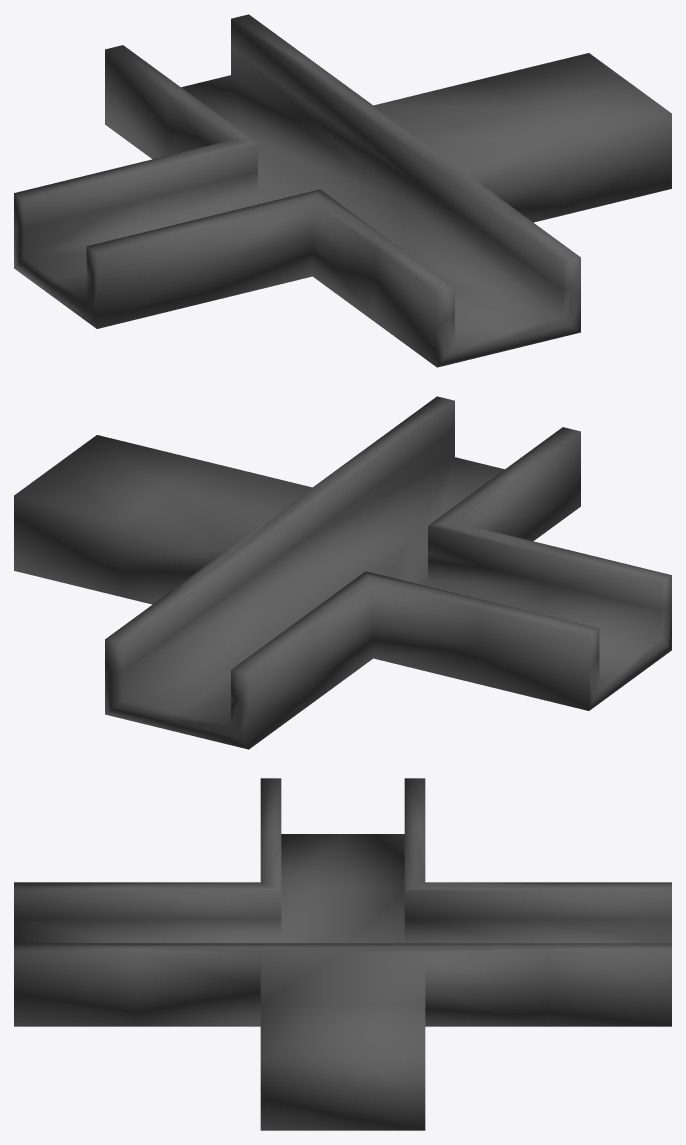
The picture shows the model from 3 angles, top to bottom: view 1: azimuth 30°, elevation 25°; view 2: azimuth 150°, elevation 25°; view 3: azimuth 270°, elevation 25°; orthographic projection.
Visible parts, largest first — view 1: defaultobject; view 2: defaultobject; view 3: defaultobject.
Part boxes in pixels (box(x1,y1,x2,y2)): defaultobject: box(14, 14, 671, 367); defaultobject: box(14, 396, 671, 749); defaultobject: box(14, 778, 671, 1130).
Size of the model in its own units: 1 by 0.125 by 1.
Materials: 1 (1 with a texture image).
